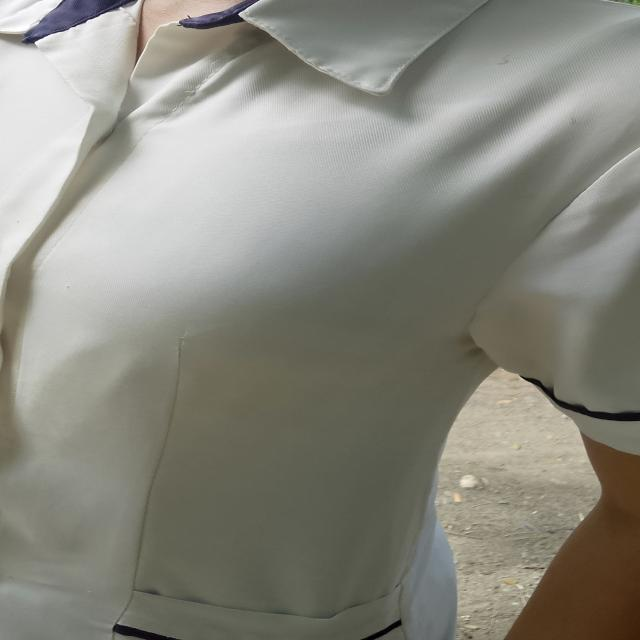education_female_uniform: (0, 2, 640, 637)
